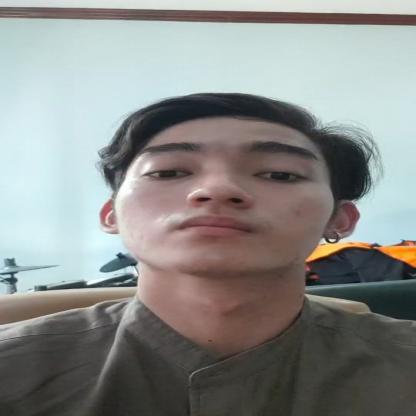Palm: (70, 83, 415, 324)
